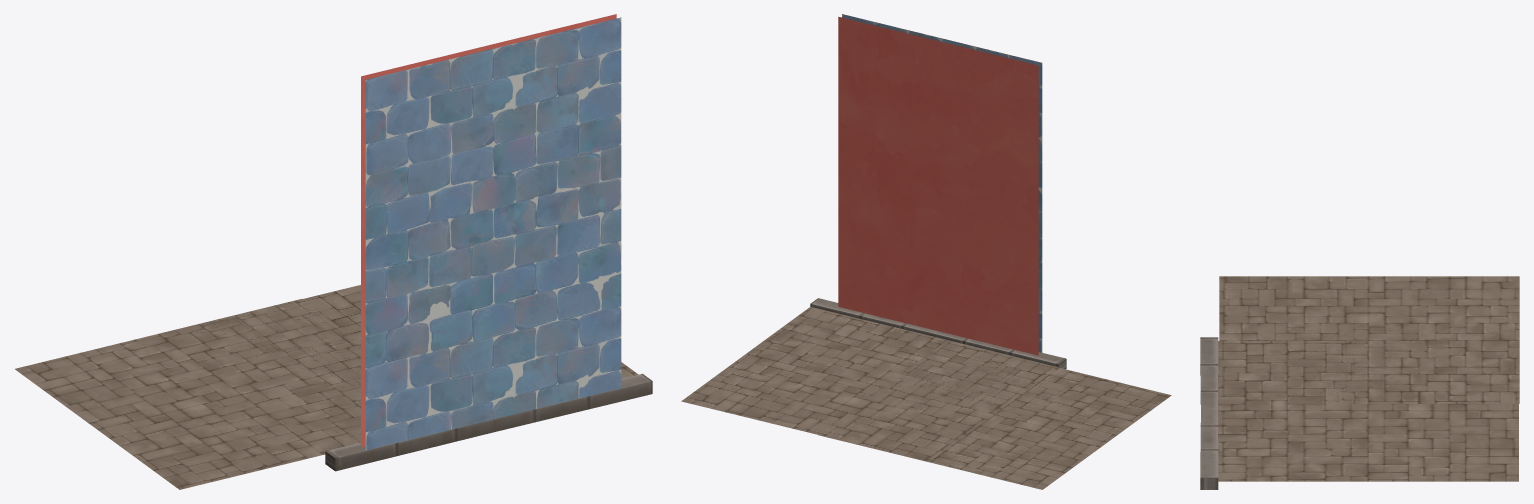
Rendered from wall2.fbx.
The picture shows the model from 3 angles, left to right: view 1: azimuth 30°, elevation 25°; view 2: azimuth 150°, elevation 25°; view 3: azimuth 270°, elevation 25°; orthographic projection. The views are drawn at different scales.
Visible parts, largest first — view 1: wall7, kaldırım_bake.002, kaldırım_bake, kaldırım_kenar, wall5; view 2: wall5, kaldırım_bake, kaldırım_bake.002, wall7, kaldırım_kenar; view 3: kaldırım_bake, kaldırım_bake.002, kaldırım_kenar.
Part boxes in pixels (x1,y1,x2,y2): wall7: [365, 17, 621, 450]; kaldırım_bake.002: [15, 299, 360, 489]; kaldırım_bake: [172, 285, 638, 454]; kaldırım_kenar: [325, 373, 652, 471]; wall5: [361, 14, 616, 446]; wall5: [838, 16, 1038, 355]; kaldırım_bake: [681, 307, 1057, 461]; kaldırım_bake.002: [818, 340, 1171, 489]; wall7: [842, 14, 1042, 352]; kaldırım_kenar: [810, 298, 1066, 369]; kaldırım_bake: [1218, 341, 1518, 481]; kaldırım_bake.002: [1219, 276, 1519, 403]; kaldırım_kenar: [1200, 337, 1218, 489].
Size of the model in its own units: 883 by 700 by 581.
1 material, 1 textured.
